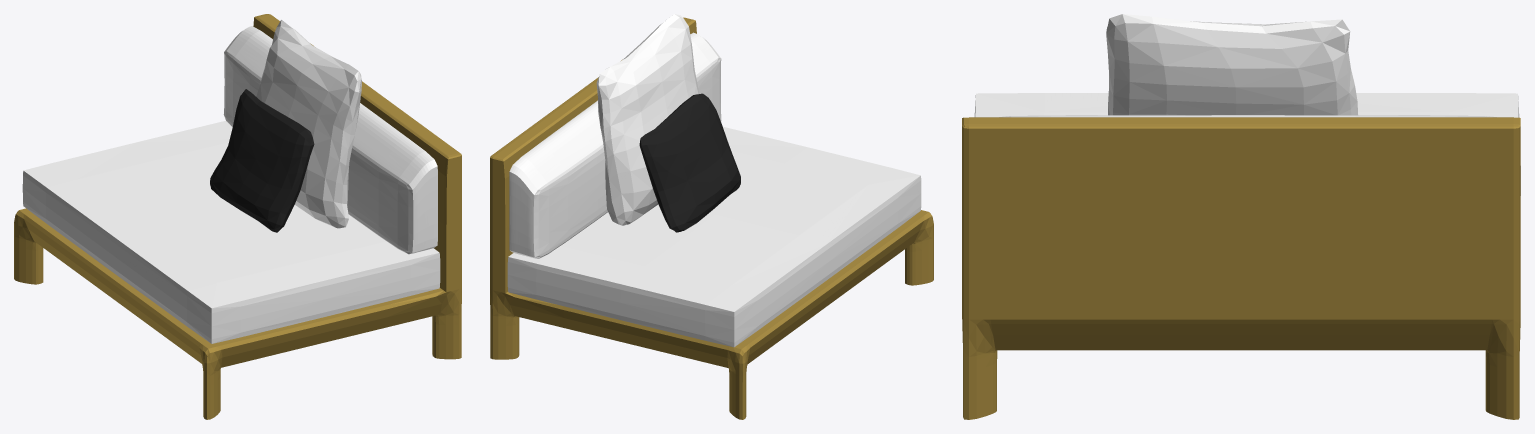
The model's file is ext_chair.obj.
3 views of the same model, side by side, from view 1: azimuth 30°, elevation 25°; view 2: azimuth 150°, elevation 25°; view 3: azimuth 270°, elevation 25° (orthographic). The views are drawn at different scales.
Visible parts, largest first — view 1: cojin_cuad_EXT.002_Cube.102, mesita_ext1.002_Cube.101, cojin_espal_ext.002_Cube.103, cojin_blanco_EXT.002_Cube.105, cojin_negro_EXT.002_Cube.104; view 2: cojin_cuad_EXT.002_Cube.102, mesita_ext1.002_Cube.101, cojin_espal_ext.002_Cube.103, cojin_blanco_EXT.002_Cube.105, cojin_negro_EXT.002_Cube.104; view 3: mesita_ext1.002_Cube.101, cojin_blanco_EXT.002_Cube.105, cojin_cuad_EXT.002_Cube.102, cojin_espal_ext.002_Cube.103.
Boxes of the visible parts, box(x1,y1,x2,y2) form: cojin_cuad_EXT.002_Cube.102: box(22, 120, 440, 343); mesita_ext1.002_Cube.101: box(14, 14, 461, 419); cojin_espal_ext.002_Cube.103: box(223, 26, 437, 254); cojin_blanco_EXT.002_Cube.105: box(256, 19, 361, 228); cojin_negro_EXT.002_Cube.104: box(210, 89, 314, 232); cojin_cuad_EXT.002_Cube.102: box(507, 127, 921, 347); mesita_ext1.002_Cube.101: box(490, 17, 933, 419); cojin_espal_ext.002_Cube.103: box(509, 32, 721, 258); cojin_blanco_EXT.002_Cube.105: box(596, 14, 699, 225); cojin_negro_EXT.002_Cube.104: box(639, 93, 740, 232); mesita_ext1.002_Cube.101: box(962, 117, 1520, 419); cojin_blanco_EXT.002_Cube.105: box(1106, 14, 1357, 115); cojin_cuad_EXT.002_Cube.102: box(974, 93, 1519, 117); cojin_espal_ext.002_Cube.103: box(999, 115, 1520, 195).
Size of the model in its own units: 0.7642 by 0.7346 by 1.
